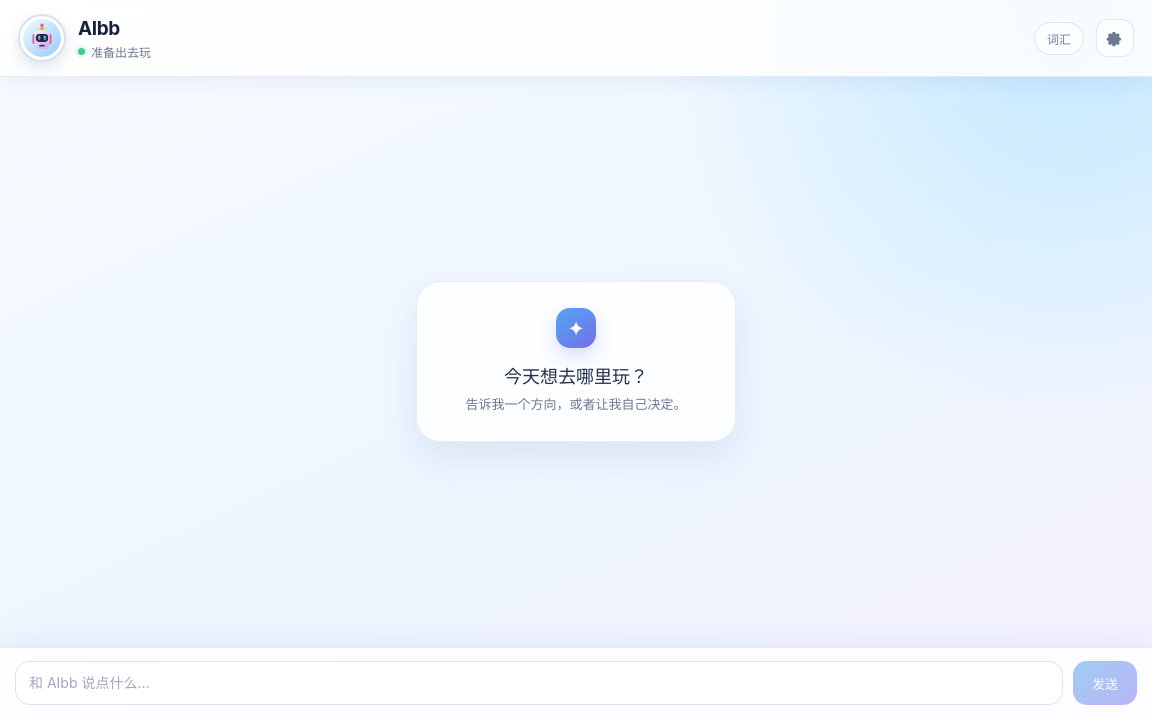
Test: ChatPanel › shows a safe local message when another outing is already active
The image size is (1152, 720).
Type "去海里玩" into the text box named "消息" at (539, 683), box [15, 661, 1063, 705]
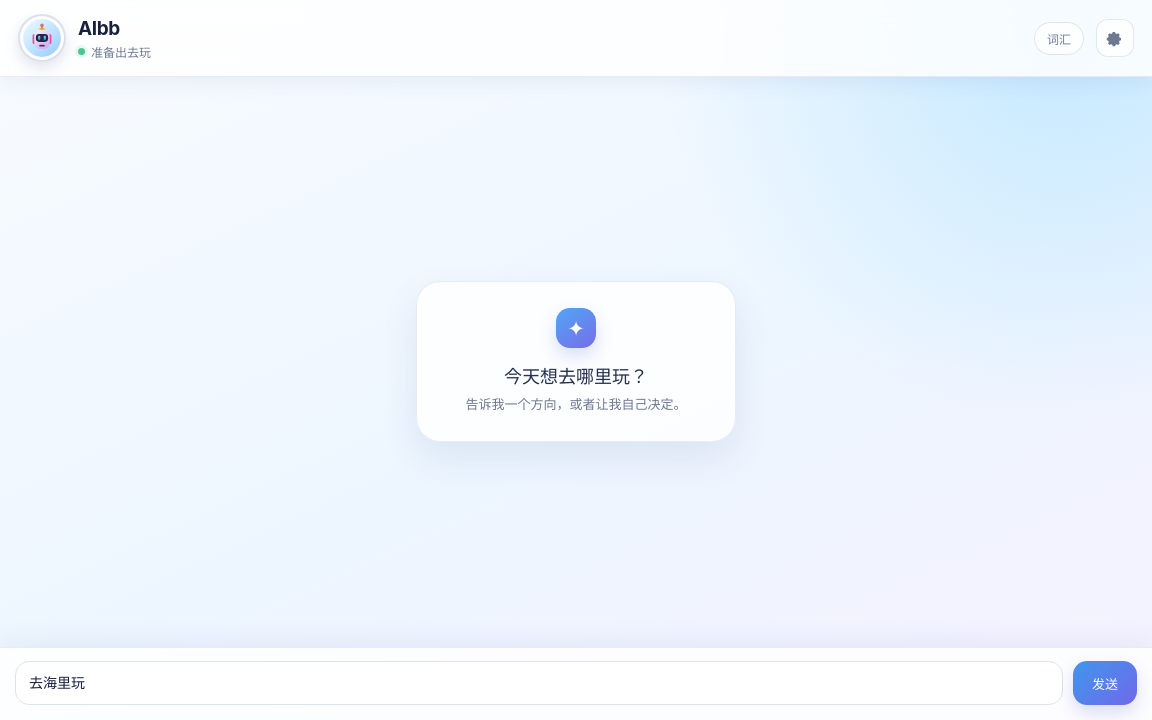
Press Enter in the text box named "消息", box [15, 661, 1063, 705]
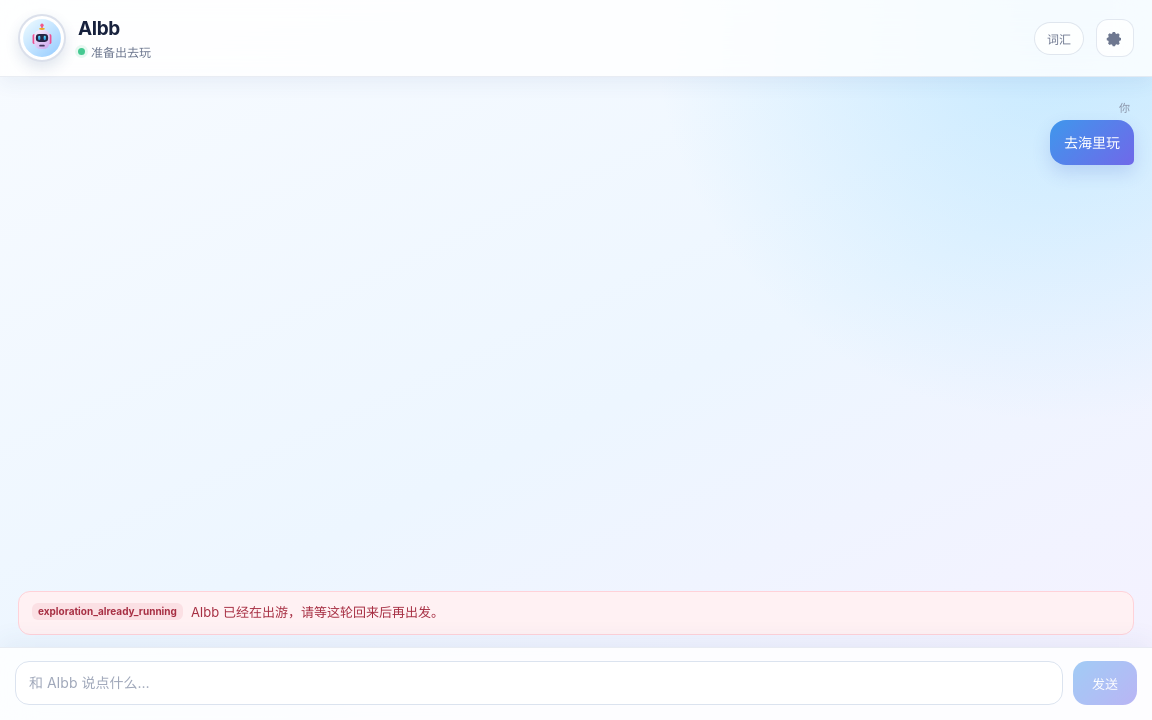
Now the message shows "AIbb 已经在出游，请等这轮回来后再出发。", box [191, 604, 444, 620]
